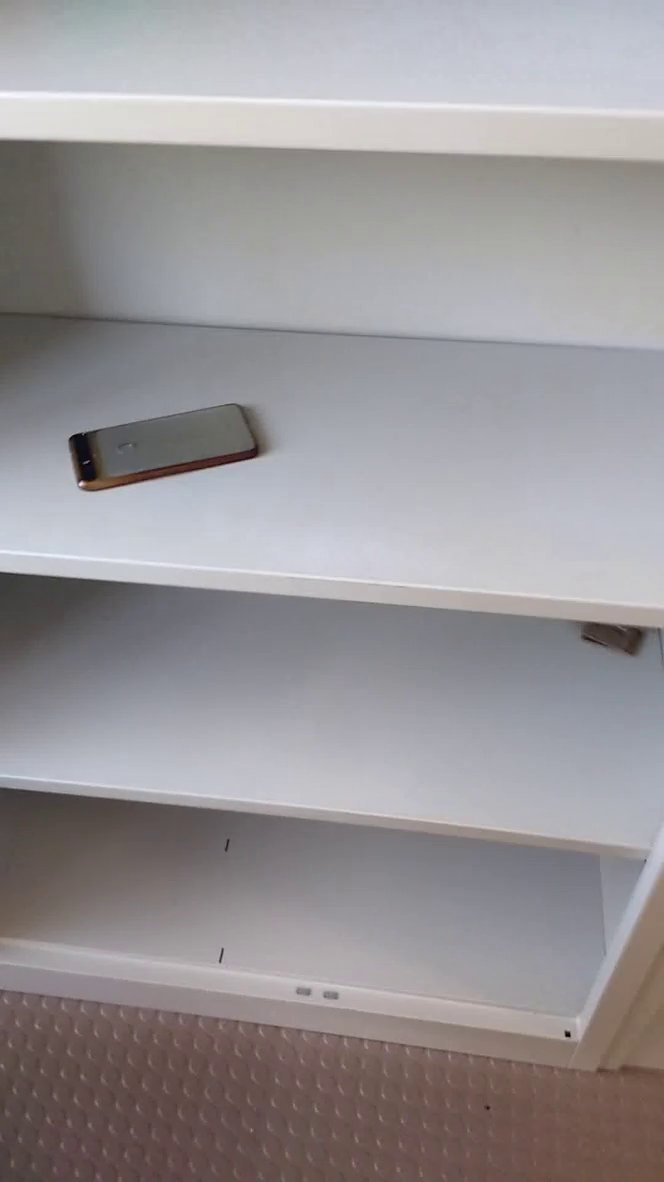phone: (55, 392, 274, 505)
